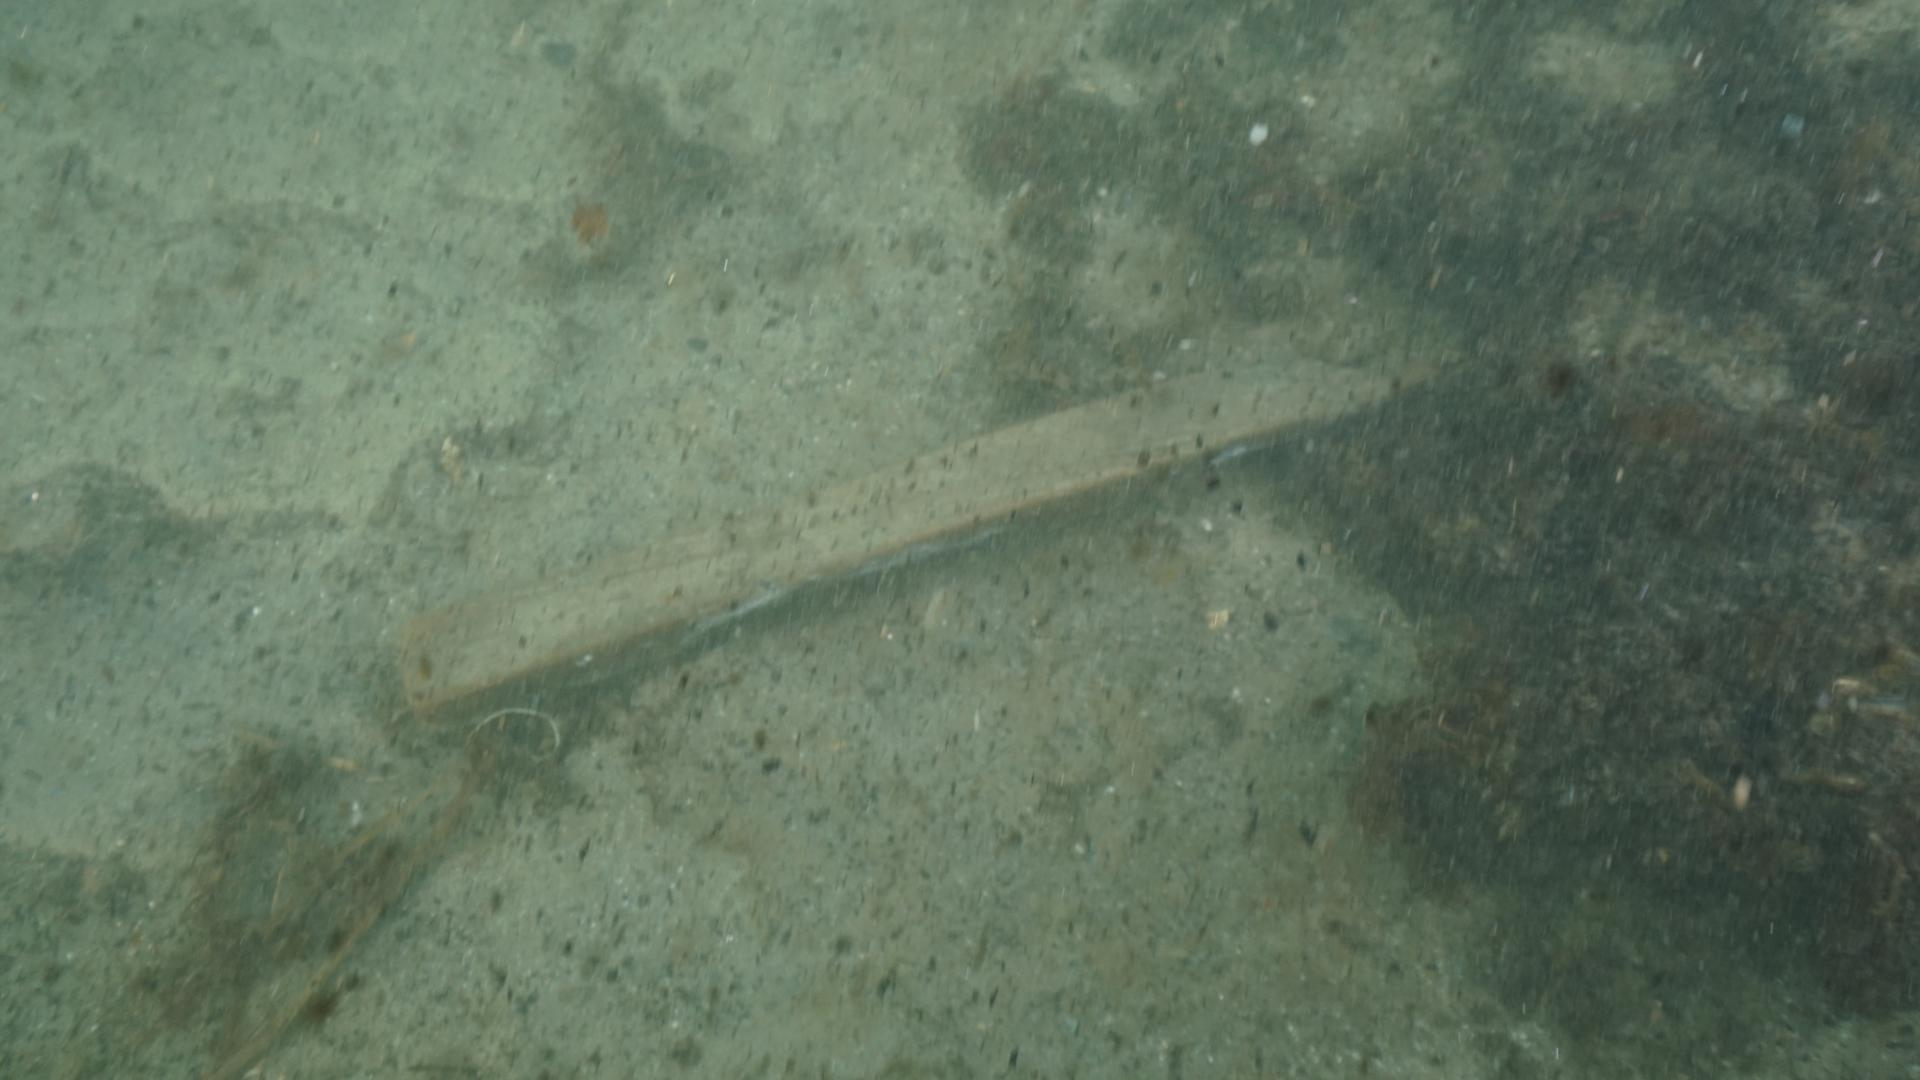wood: (392, 342, 1448, 731)
